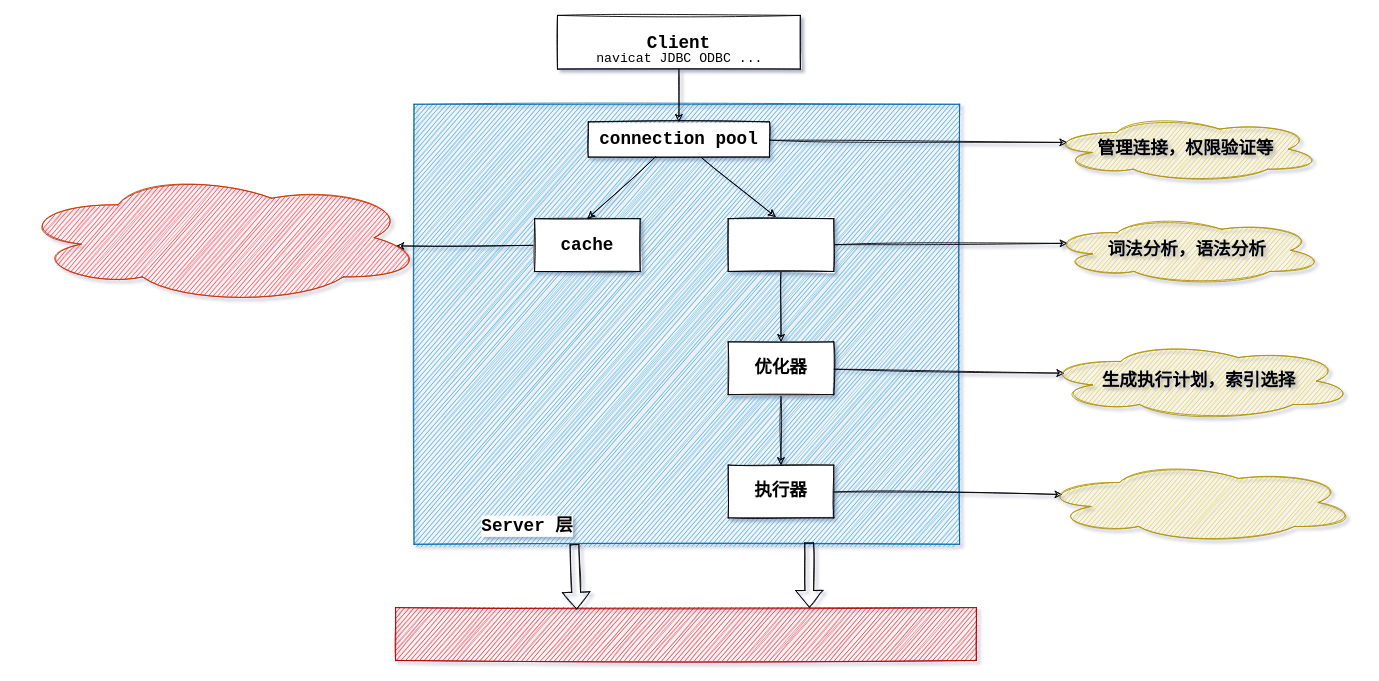
The diagram is 1379 pixels wide and 681 high, and some of its shapes have lost their labels. The shapes that lost their labels are listed below. From the top down, each one's box as (x1, y1, x2, y2) in pixels, then its label:
(15, 171, 425, 303): K-V 存储查询结果，有更新就失效。 弊大于利
(727, 218, 834, 271): 分析器
(1039, 462, 1358, 543): 操作引擎，返回结果
(395, 607, 976, 660): 存储引擎（InnoDB MyISAM）
